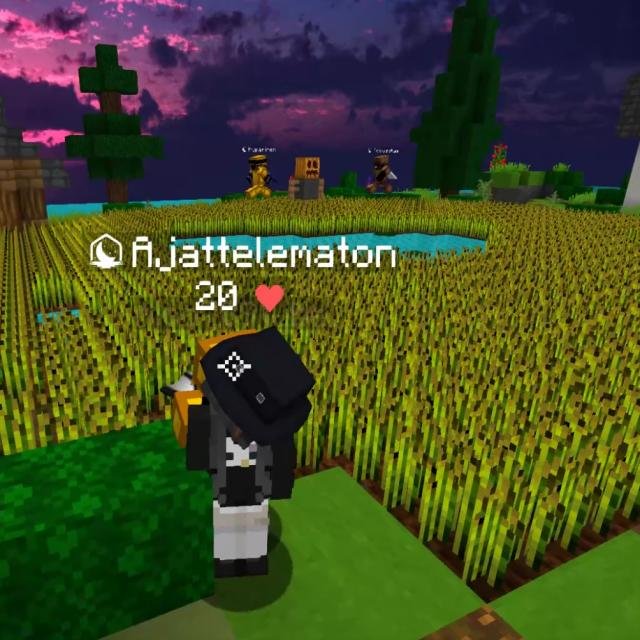Player: (185, 327, 298, 578), (243, 153, 274, 199), (366, 153, 396, 195)
